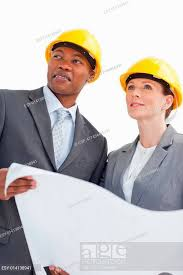Person_wearing_helmet: (122, 56, 181, 105), (39, 28, 102, 68)
